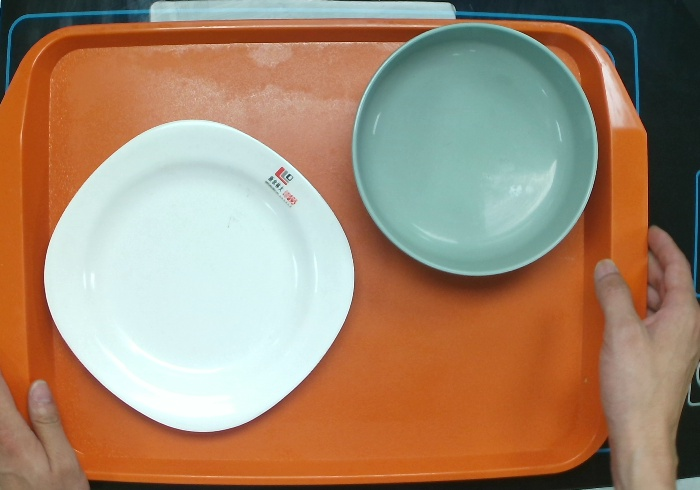ZNLD-Qing_Hua_Yuan_Wan: (348, 20, 599, 278)
ZNLD-Yuan_Jiao_Pan: (37, 117, 358, 435)
